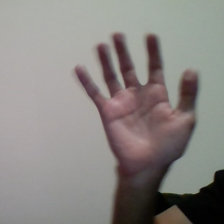left: (66, 26, 210, 184)
